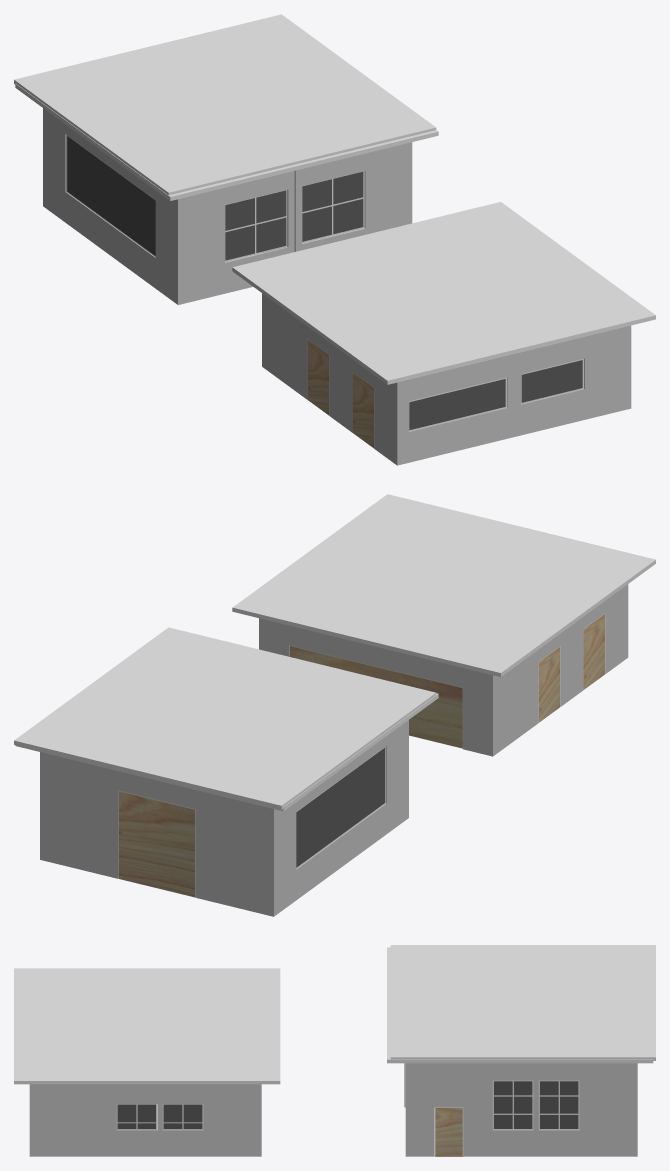
File: House_Individual.fbx
The picture shows the model from 3 angles, top to bottom: view 1: azimuth 30°, elevation 25°; view 2: azimuth 150°, elevation 25°; view 3: azimuth 270°, elevation 25°; orthographic projection. The views are drawn at different scales.
Parts seen in each view (by area): view 1: Cube.021, Cube.018, Cube.033, Cube.022, Cube.030, Cube.023, Cube.040, Cube.047, Cube.048, Cube.041, Cube.036, Cube.042 (+2 smaller); view 2: Cube.021, Cube.018, Cube.028, Cube.030, Cube.023, Cube.031, Cube.049, Cube.040, Cube.045, Cube.043, Cube.044, Cube.036; view 3: Cube.021, Cube.018, Cube.029, Cube.032, Cube.034, Cube.037, Cube.036, Cube.046, Cube.038, Cube.039.
Part boxes in pixels (<box>): Cube.021: <box>232,202,655,384</box>; Cube.018: <box>14,14,436,195</box>; Cube.033: <box>397,325,631,465</box>; Cube.022: <box>178,142,412,304</box>; Cube.030: <box>43,108,177,304</box>; Cube.023: <box>262,293,397,465</box>; Cube.040: <box>66,135,155,256</box>; Cube.047: <box>302,171,364,243</box>; Cube.048: <box>225,190,287,261</box>; Cube.041: <box>409,377,506,431</box>; Cube.036: <box>15,83,438,200</box>; Cube.042: <box>521,358,583,403</box>; Cube.021: <box>232,494,655,676</box>; Cube.018: <box>14,627,436,809</box>; Cube.028: <box>40,752,273,916</box>; Cube.030: <box>274,720,408,916</box>; Cube.023: <box>493,584,628,756</box>; Cube.031: <box>259,618,492,756</box>; Cube.049: <box>118,790,195,897</box>; Cube.040: <box>296,746,385,868</box>; Cube.045: <box>289,645,462,748</box>; Cube.043: <box>538,646,560,723</box>; Cube.044: <box>583,613,605,690</box>; Cube.036: <box>15,693,438,811</box>; Cube.021: <box>14,968,280,1084</box>; Cube.018: <box>390,945,655,1060</box>; Cube.029: <box>405,1063,637,1156</box>; Cube.032: <box>29,1084,261,1156</box>; Cube.034: <box>492,1080,533,1129</box>; Cube.037: <box>538,1080,579,1129</box>; Cube.036: <box>387,947,653,1063</box>; Cube.046: <box>435,1107,463,1156</box>; Cube.038: <box>116,1104,157,1129</box>; Cube.039: <box>162,1104,203,1129</box>.
Size of the model in its own units: 1432 by 629 by 3456.
